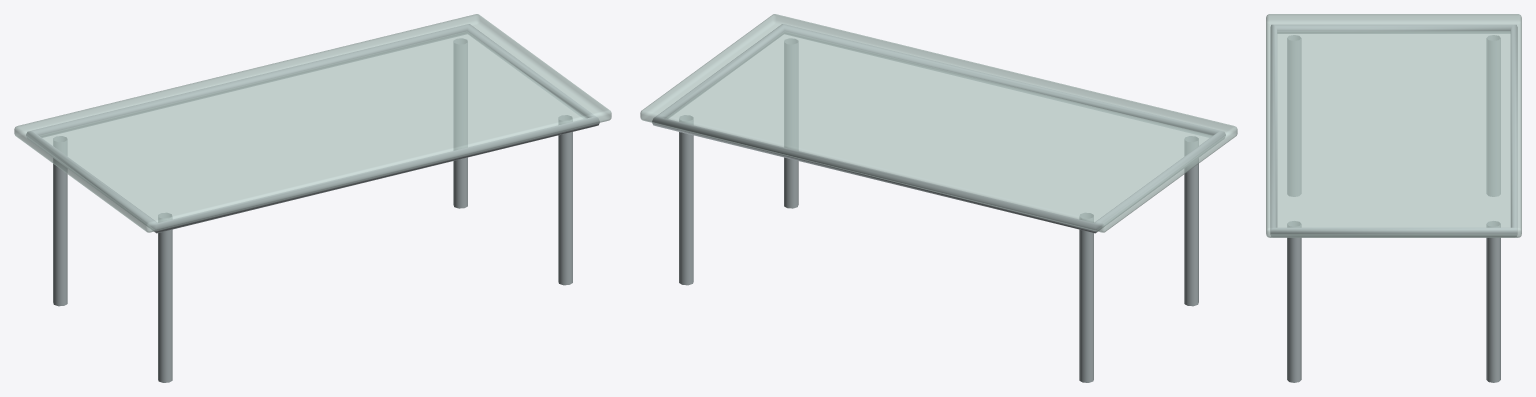
File: prod-1773061941304-nsl06.glb
3 views of the same model, side by side, from view 1: azimuth 30°, elevation 25°; view 2: azimuth 150°, elevation 25°; view 3: azimuth 270°, elevation 25° (orthographic). The views are drawn at different scales.
Parts seen in each view (by area): view 1: Table top.003, Table leg.008; view 2: Table top.003, Table leg.008; view 3: Table top.003, Table leg.008.
Boxes of the visible parts, x1,y1,x2,y2 form: Table top.003: (14,14,611,232); Table leg.008: (26,24,599,382); Table top.003: (640,14,1237,232); Table leg.008: (652,24,1225,382); Table top.003: (1266,14,1521,237); Table leg.008: (1270,24,1517,382).
Size of the model in its own units: 1.2 by 0.43 by 0.6.
